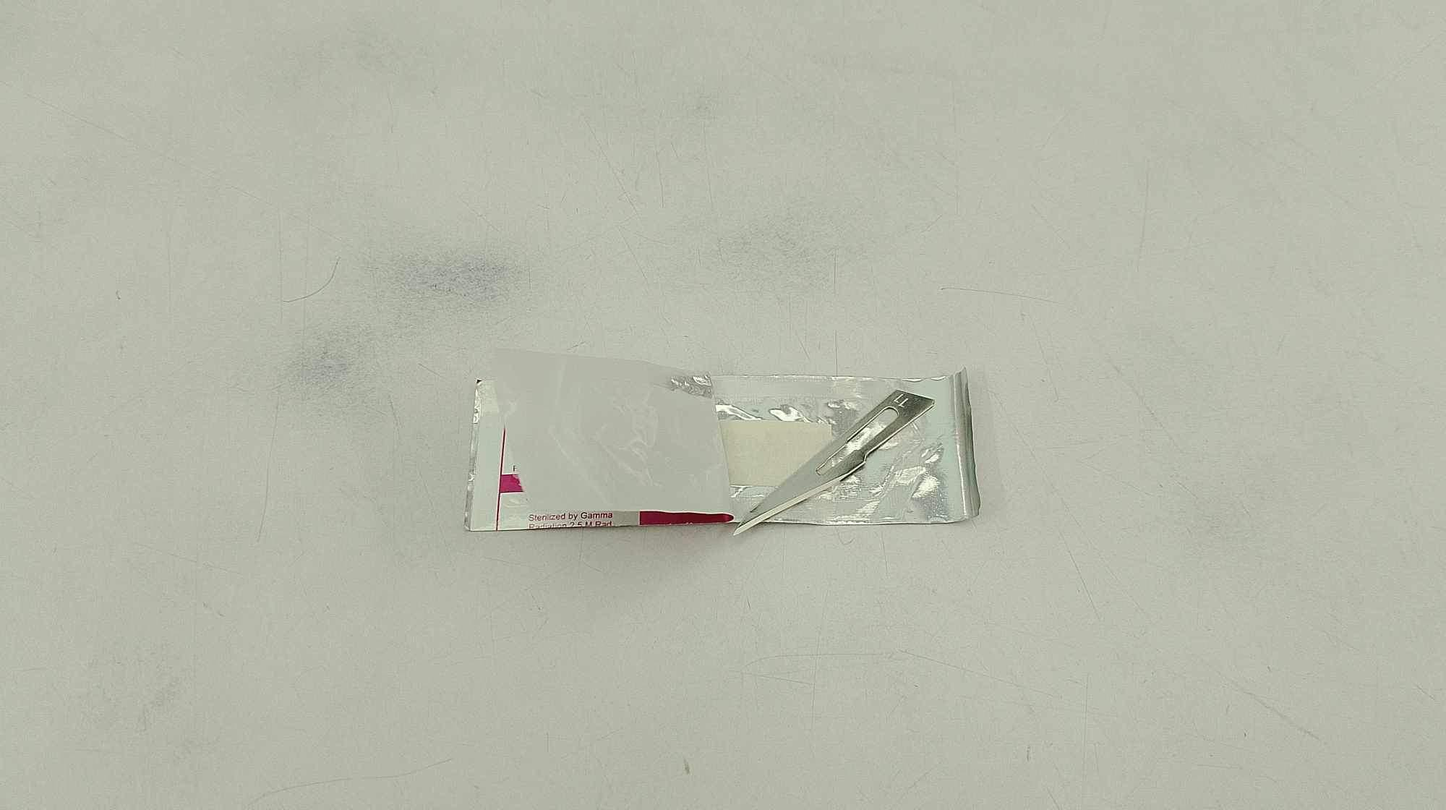General: (461, 345, 982, 536)
Sharps: (731, 387, 935, 537)
